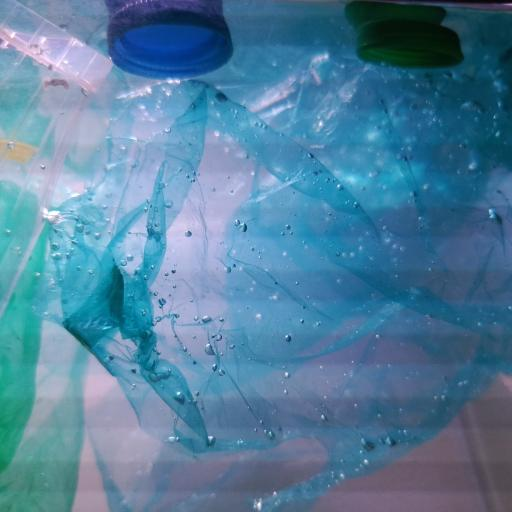bottle_cap: (106, 2, 235, 76), (356, 22, 462, 66)
plastic_bag: (54, 35, 512, 512), (0, 177, 85, 512)
plastic_cup: (0, 0, 110, 316)
